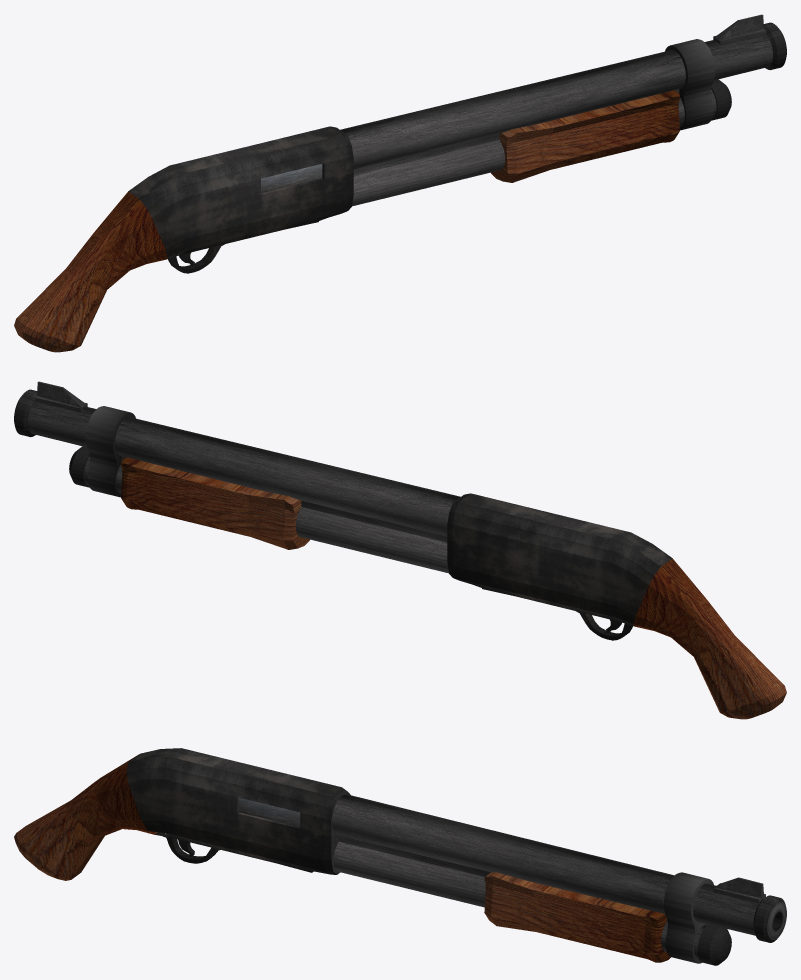
The model's file is nova.glb.
3 views of the same model, one above another, from view 1: azimuth 30°, elevation 25°; view 2: azimuth 150°, elevation 25°; view 3: azimuth 330°, elevation 25° (orthographic).
Visible parts, largest first — view 1: Cube.001_13, Cilindro_8, Cube.003_15, Cubo.001_11, Cilindro.001_9, Cubo_10, Cubo.002_12, Cilindro.002_14; view 2: Cube.001_13, Cilindro_8, Cube.003_15, Cubo.001_11, Cilindro.001_9, Cubo_10, Cubo.002_12, Cilindro.002_14; view 3: Cube.001_13, Cilindro_8, Cubo.001_11, Cube.003_15, Cilindro.001_9, Cubo_10, Cilindro.002_14, Cubo.002_12.
Boxes of the visible parts, x1=… form: Cube.001_13: x1=128, y1=126, x2=353, y2=273; Cilindro_8: x1=340, y1=14, x2=786, y2=169; Cube.003_15: x1=14, y1=191, x2=167, y2=352; Cubo.001_11: x1=491, y1=90, x2=679, y2=182; Cilindro.001_9: x1=352, y1=89, x2=716, y2=206; Cubo_10: x1=665, y1=39, x2=714, y2=130; Cubo.002_12: x1=353, y1=89, x2=679, y2=175; Cilindro.002_14: x1=711, y1=79, x2=731, y2=120; Cube.001_13: x1=447, y1=493, x2=672, y2=640; Cilindro_8: x1=14, y1=381, x2=460, y2=536; Cube.003_15: x1=633, y1=558, x2=786, y2=719; Cubo.001_11: x1=121, y1=457, x2=309, y2=549; Cilindro.001_9: x1=84, y1=456, x2=448, y2=573; Cubo_10: x1=86, y1=406, x2=135, y2=497; Cubo.002_12: x1=121, y1=456, x2=447, y2=542; Cilindro.002_14: x1=69, y1=446, x2=89, y2=487; Cube.001_13: x1=126, y1=748, x2=350, y2=874; Cilindro_8: x1=332, y1=794, x2=786, y2=942; Cubo.001_11: x1=484, y1=872, x2=670, y2=962; Cube.003_15: x1=14, y1=754, x2=156, y2=880; Cilindro.001_9: x1=333, y1=841, x2=707, y2=959; Cubo_10: x1=664, y1=872, x2=713, y2=963; Cilindro.002_14: x1=697, y1=924, x2=731, y2=965; Cubo.002_12: x1=339, y1=835, x2=667, y2=921.
Size of the model in its own units: 8.73 by 1.79 by 0.5313.
15 materials, 14 textured.
